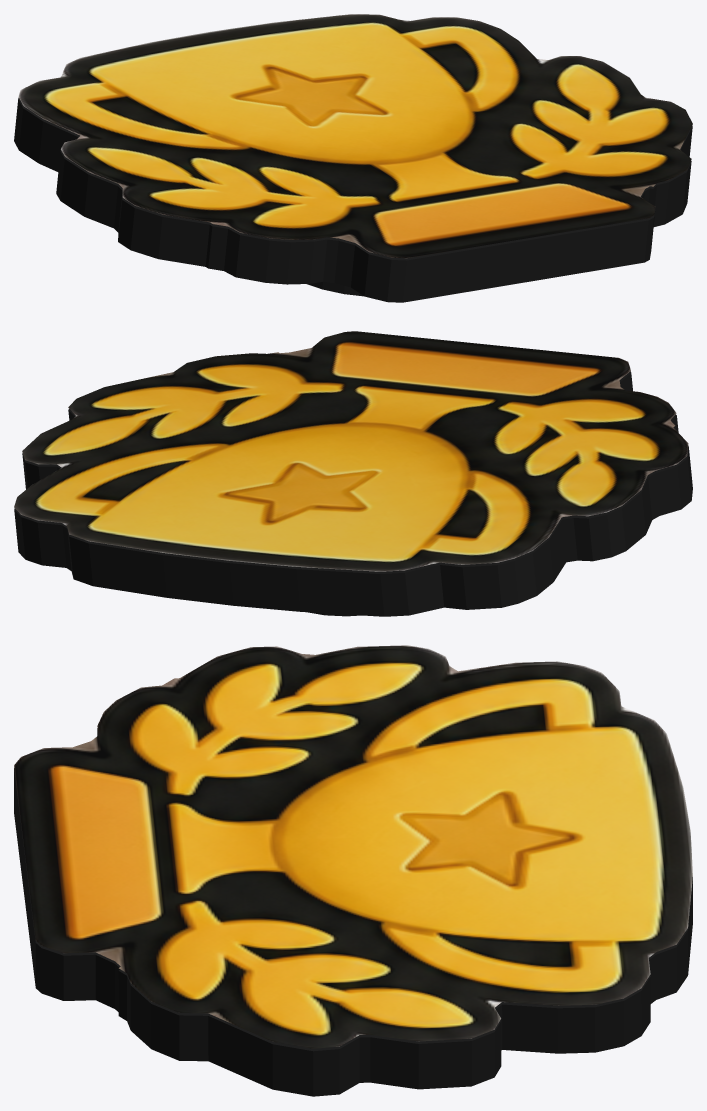
The model's file is sports-trophy.glb.
3 views of the same model, one above another, from view 1: azimuth 30°, elevation 25°; view 2: azimuth 150°, elevation 25°; view 3: azimuth 270°, elevation 25° (orthographic). The views are drawn at different scales.
Parts seen in each view (by area): view 1: SPORTS_Trophy_MODEL; view 2: SPORTS_Trophy_MODEL; view 3: SPORTS_Trophy_MODEL.
Part boxes in pixels (bbox=[...]): SPORTS_Trophy_MODEL: bbox=[14, 14, 692, 302]; SPORTS_Trophy_MODEL: bbox=[14, 331, 692, 616]; SPORTS_Trophy_MODEL: bbox=[14, 645, 692, 1096].
Size of the model in its own units: 0.3763 by 0.1025 by 0.3265.
Materials: 3 (1 with a texture image).
